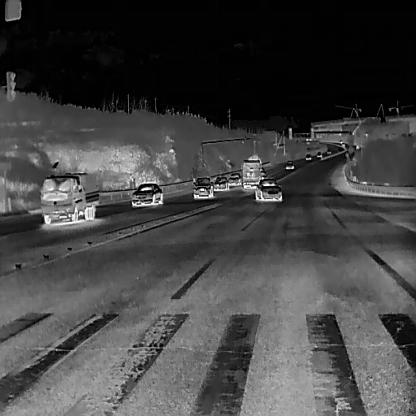car: (131, 182, 163, 207), (255, 177, 282, 201), (192, 176, 213, 198), (212, 175, 228, 190), (228, 172, 241, 186), (258, 168, 267, 180), (284, 159, 294, 169), (304, 153, 312, 160), (316, 150, 322, 157), (336, 147, 341, 152), (326, 148, 331, 153), (341, 141, 345, 147), (338, 139, 342, 143)
truck: (38, 171, 98, 224), (240, 154, 260, 188), (355, 142, 359, 148)
